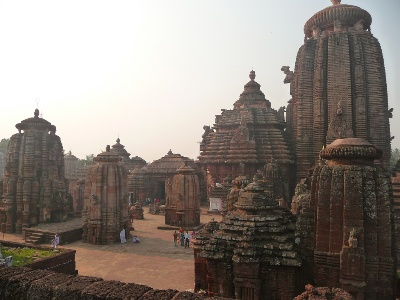amalaka: (289, 3, 384, 39), (14, 112, 59, 137)
gopuram: (280, 37, 397, 145), (4, 133, 73, 216)
